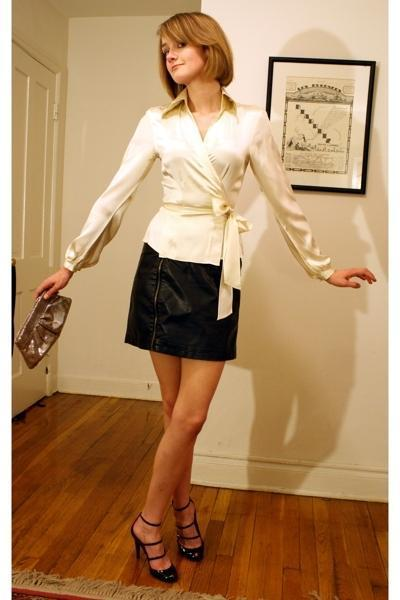bag: (12, 276, 72, 368)
shirt: (61, 109, 335, 319)
shoe: (156, 525, 211, 584)
